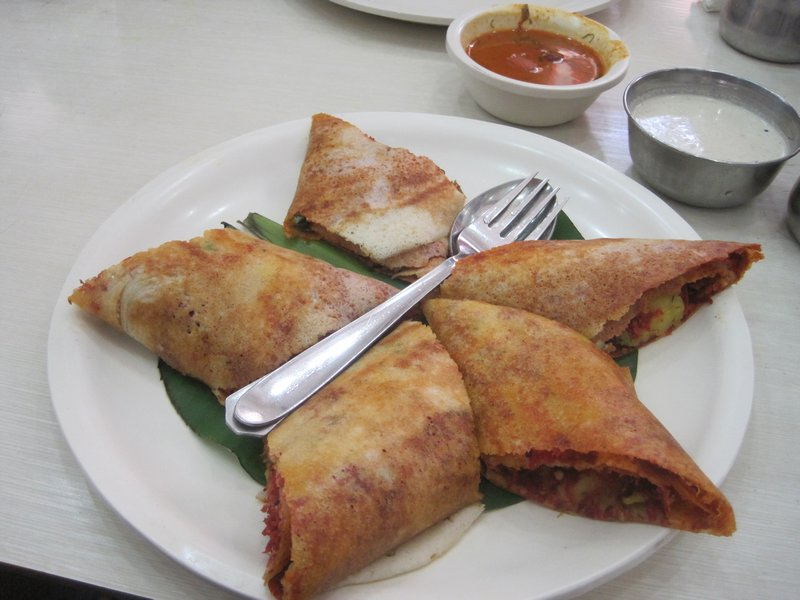dosa: (48, 107, 766, 600)
